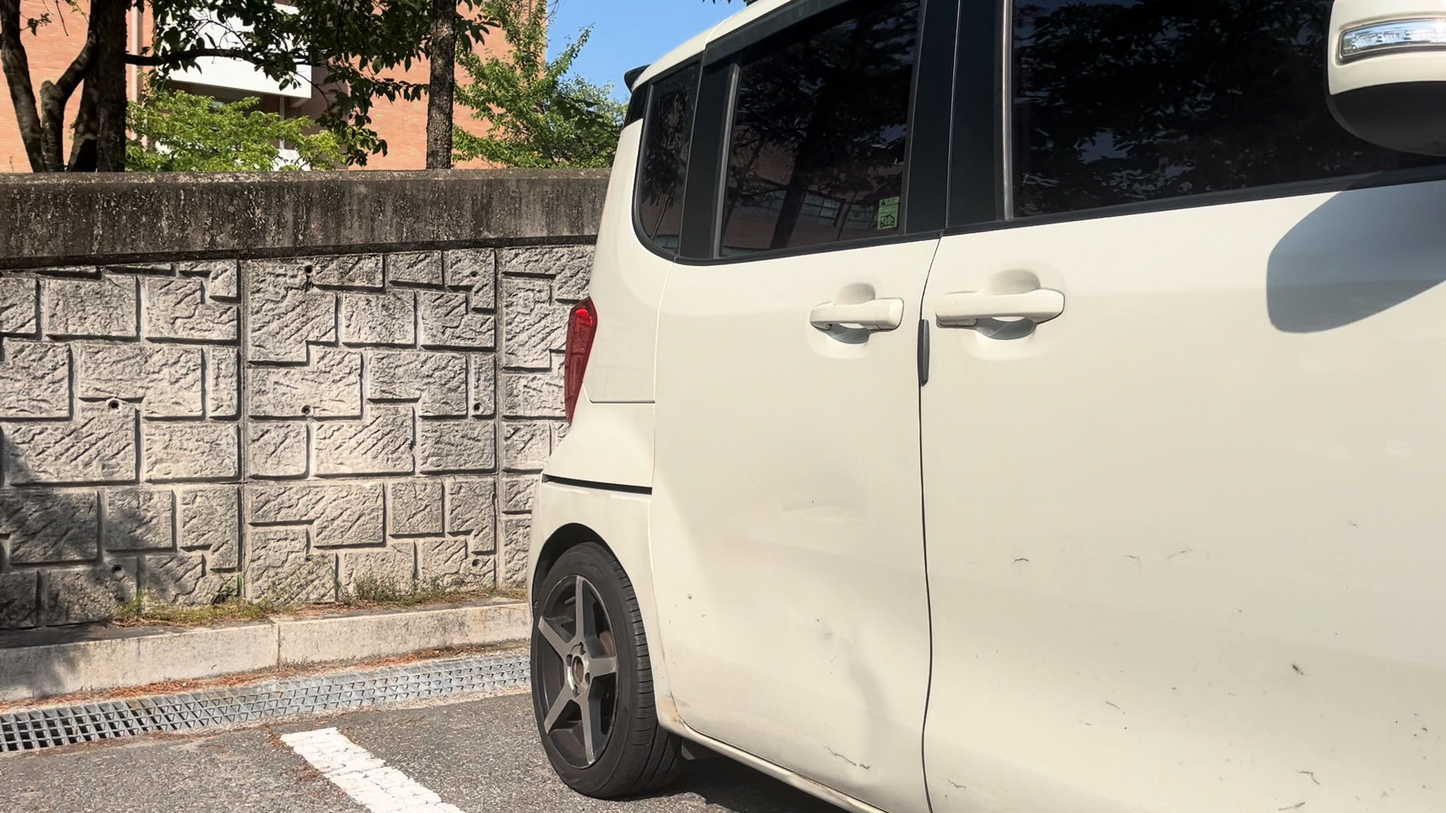door_handle: (937, 296, 1067, 324), (808, 299, 911, 325)
tail_light: (561, 298, 596, 423)
